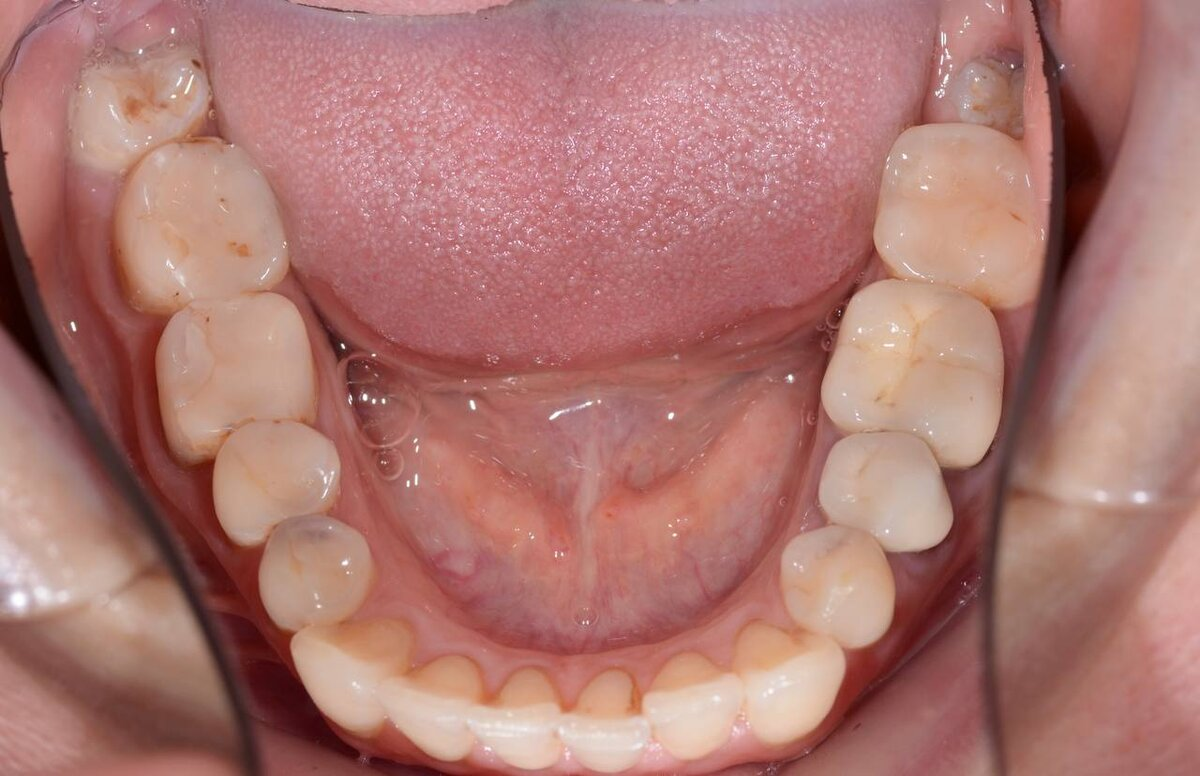LL1BC_healthy: (780, 527, 893, 645)
LL1M_healthy: (822, 280, 1000, 452)
LL2BC_healthy: (820, 434, 953, 551)
LL2M_healthy: (875, 126, 1034, 300)
LL3M_decay: (927, 26, 1034, 131)
LLCI_healthy: (562, 675, 645, 772)
LLC_healthy: (736, 625, 843, 734)
LLLI_healthy: (643, 658, 738, 759)
LR1BC_decay: (260, 519, 372, 629)
LR1M_healthy: (155, 296, 313, 425)
LR2BC_healthy: (214, 422, 340, 517)
LR2M_decay: (114, 134, 285, 301)
LR3M_decay: (71, 43, 208, 161)
LRCI_healthy: (480, 671, 560, 767)
LRC_healthy: (292, 620, 401, 729)
LRLI_healthy: (398, 656, 479, 758)
